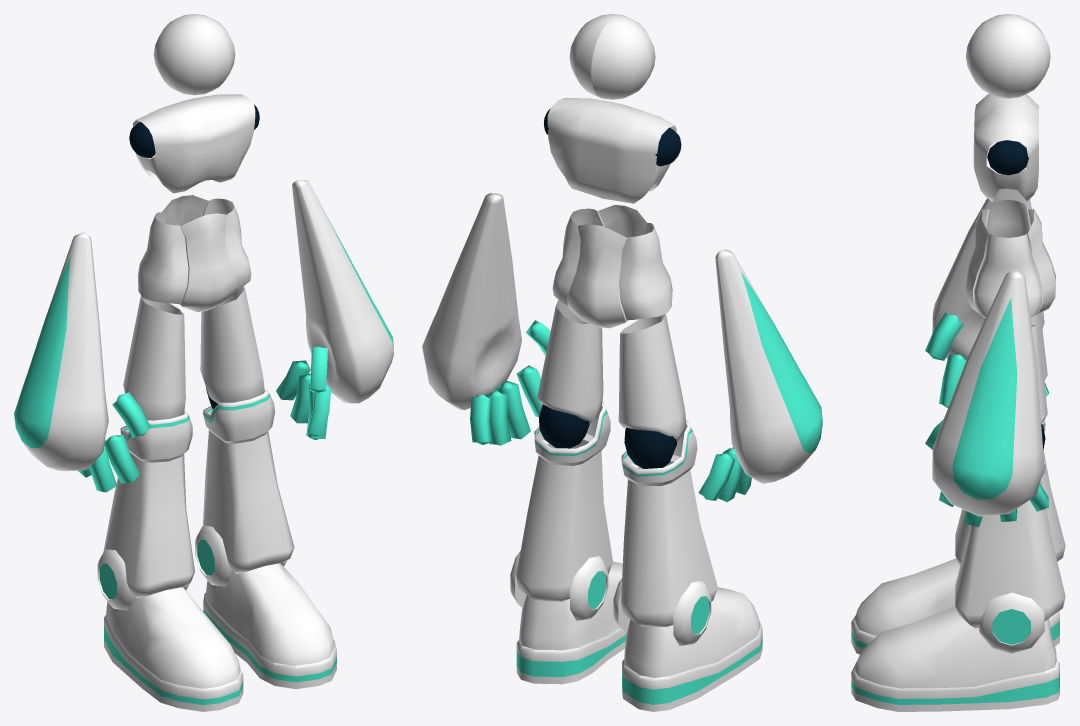
Rendered from PlayerAlpha-notBone.fbx.
The picture shows the model from 3 angles, left to right: view 1: azimuth 30°, elevation 25°; view 2: azimuth 150°, elevation 25°; view 3: azimuth 270°, elevation 25°; orthographic projection. The views are drawn at different scales.
Parts seen in each view (by area): view 1: polySurface52; view 2: polySurface52; view 3: polySurface52.
Part boxes in pixels (<box>): polySurface52: <box>14,14,393,711</box>; polySurface52: <box>422,14,822,711</box>; polySurface52: <box>851,14,1065,711</box>.
Bounding box in the file's own units: 41.28 × 67.59 × 20.21.
Materials: 2 (2 with a texture image).
